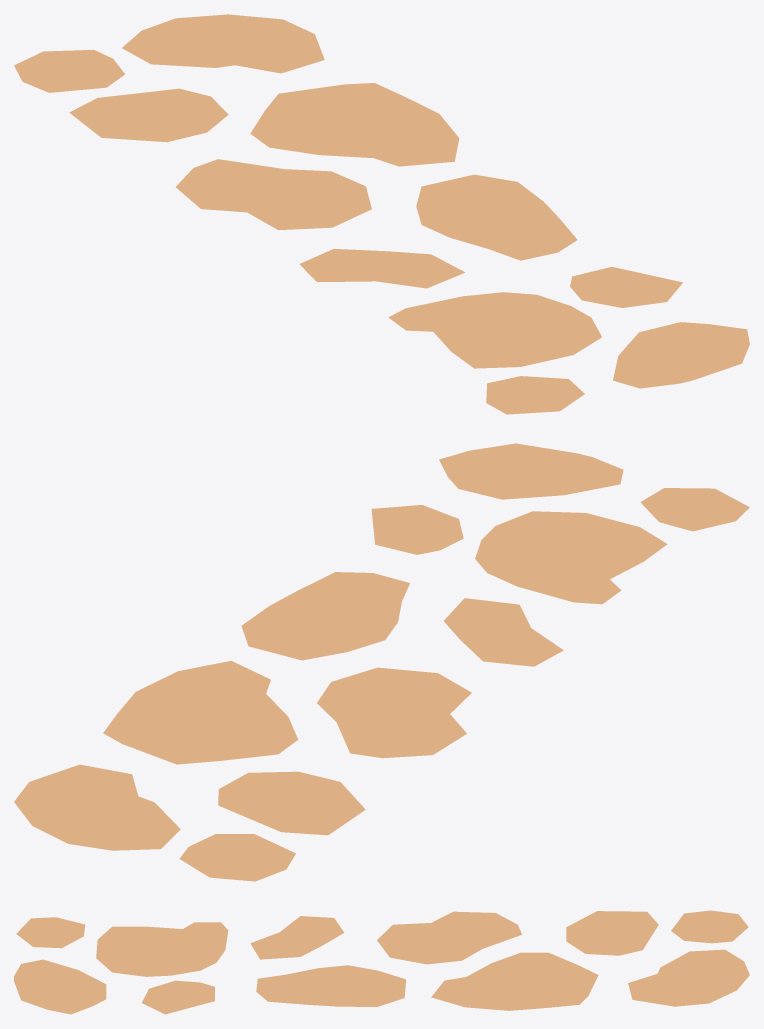
File: Road_2.fbx
3 renders of one model, top to bottom at view 1: azimuth 30°, elevation 25°; view 2: azimuth 150°, elevation 25°; view 3: azimuth 270°, elevation 25°, orthographic. The views are drawn at different scales.
Visible parts, largest first — view 1: Plane.003; view 2: Plane.003; view 3: Plane.003.
Part boxes in pixels (box(x1,y1,x2,y2)): Plane.003: box(14, 14, 749, 414); Plane.003: box(14, 443, 749, 881); Plane.003: box(14, 910, 749, 1014).
Size of the model in its own units: 0.6229 by 1.86 by 2.22e-07.
